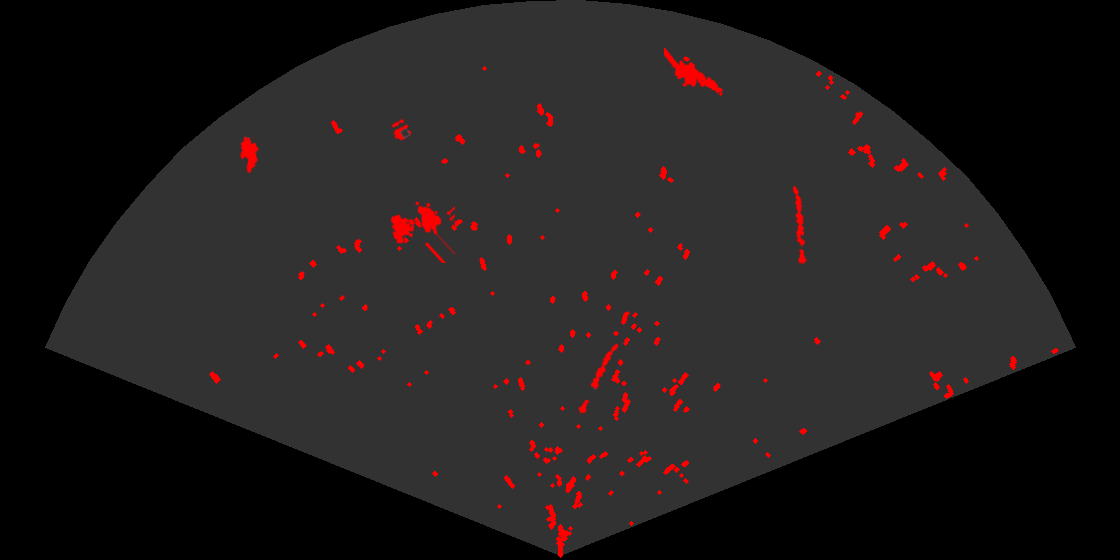AUV: (239, 135, 260, 175)
ball: (390, 117, 413, 142)
cage: (389, 200, 455, 263)
chain: (576, 342, 620, 417), (791, 184, 809, 264)
frogman: (664, 48, 725, 95)
